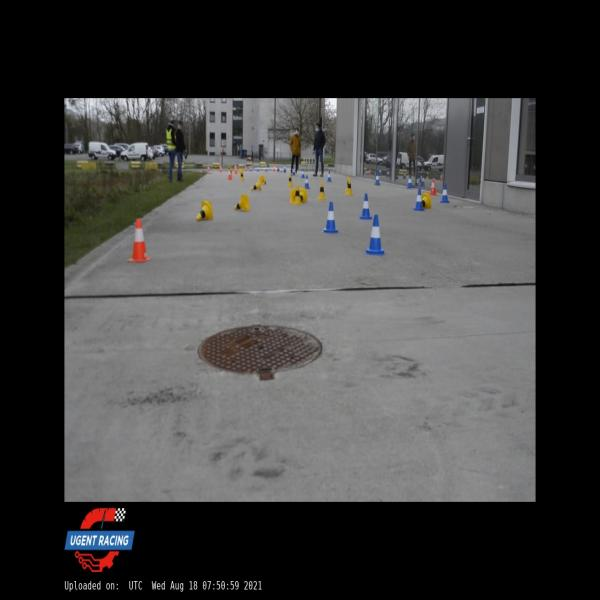blue_cone: (364, 213, 386, 257), (322, 201, 339, 234), (358, 192, 373, 220), (412, 187, 424, 212), (440, 183, 450, 204), (406, 173, 413, 189), (373, 172, 380, 186), (304, 174, 310, 190), (326, 170, 332, 183), (300, 168, 304, 178), (277, 166, 282, 173), (264, 165, 268, 172), (283, 164, 286, 172), (292, 168, 295, 175), (256, 166, 259, 172), (250, 167, 252, 172)
orange_cone: (128, 219, 152, 262), (430, 178, 436, 196), (228, 169, 232, 179), (272, 164, 275, 172), (234, 167, 237, 174), (219, 166, 222, 173), (207, 165, 210, 172), (244, 165, 247, 172)
yellow_cone: (196, 201, 213, 222), (234, 194, 250, 212), (293, 184, 302, 205), (250, 179, 262, 192), (318, 181, 326, 200), (345, 178, 353, 196), (422, 194, 431, 208), (300, 188, 308, 202), (287, 174, 293, 187), (290, 188, 295, 202), (259, 176, 266, 184), (240, 170, 244, 182), (230, 167, 232, 178), (214, 165, 217, 172), (228, 164, 230, 169)
